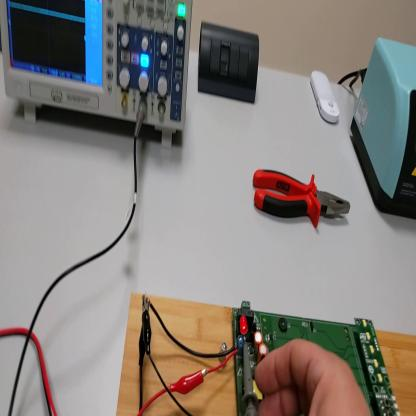hand: (257, 340, 371, 416)
low voltage board: (146, 283, 401, 415)
oscilloscope: (2, 3, 194, 150)
oscilloscope probe tip: (241, 343, 259, 416)
pliers: (254, 165, 351, 233)
welder station: (351, 32, 416, 219)
working area: (114, 292, 416, 414)
